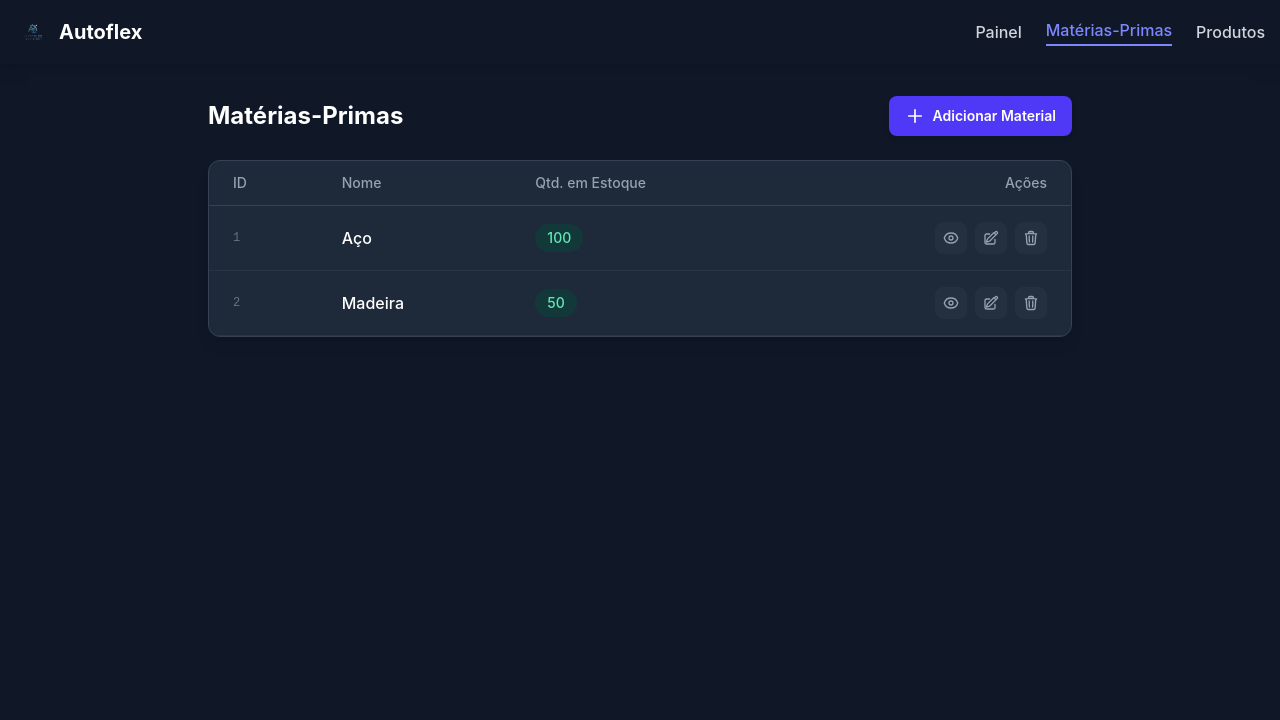
it: Inventory Management App E2E › should create a new raw material via modal
The image size is (1280, 720).
# Open modal
Click the button "Adicionar Material".
click(981, 116)  # box [889,96,1073,136]
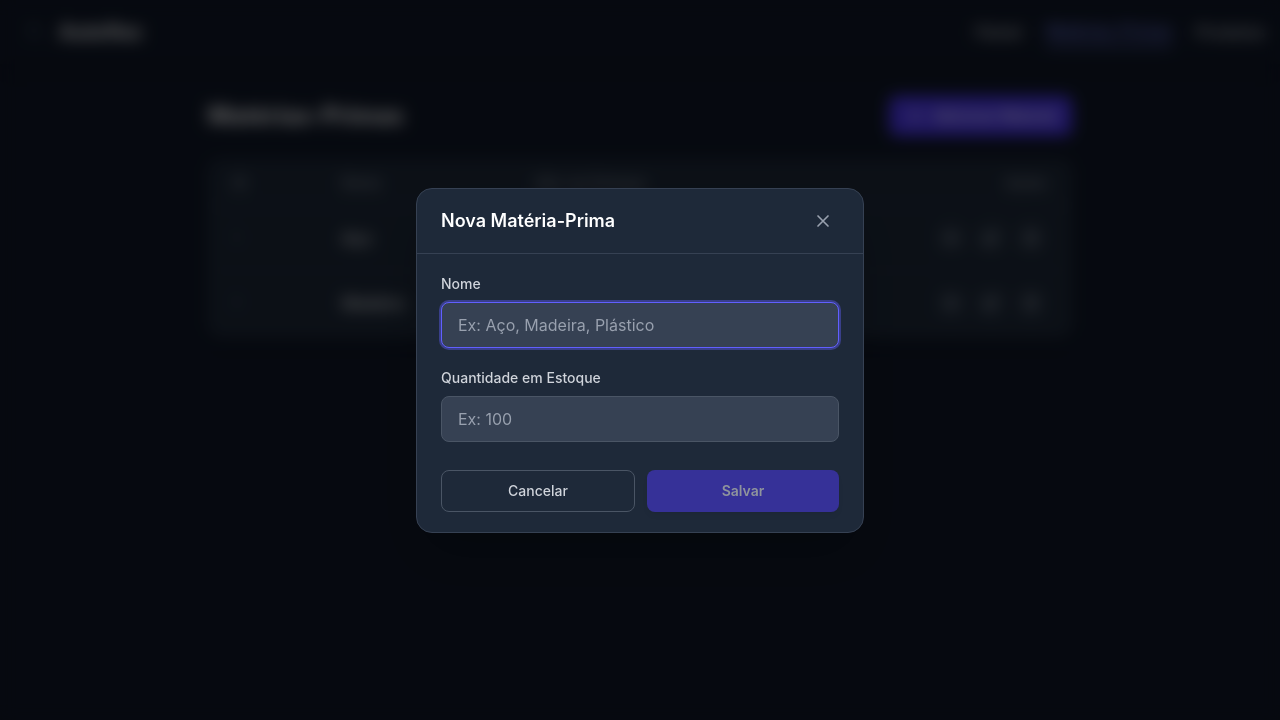
Expected: the heading "Nova Matéria-Prima" is shown, [441,206,615,234]
# Fill form
Type "Parafuso" into the field labelled "Nome".
click(640, 325); type("Parafuso")  # box [441,302,839,348]
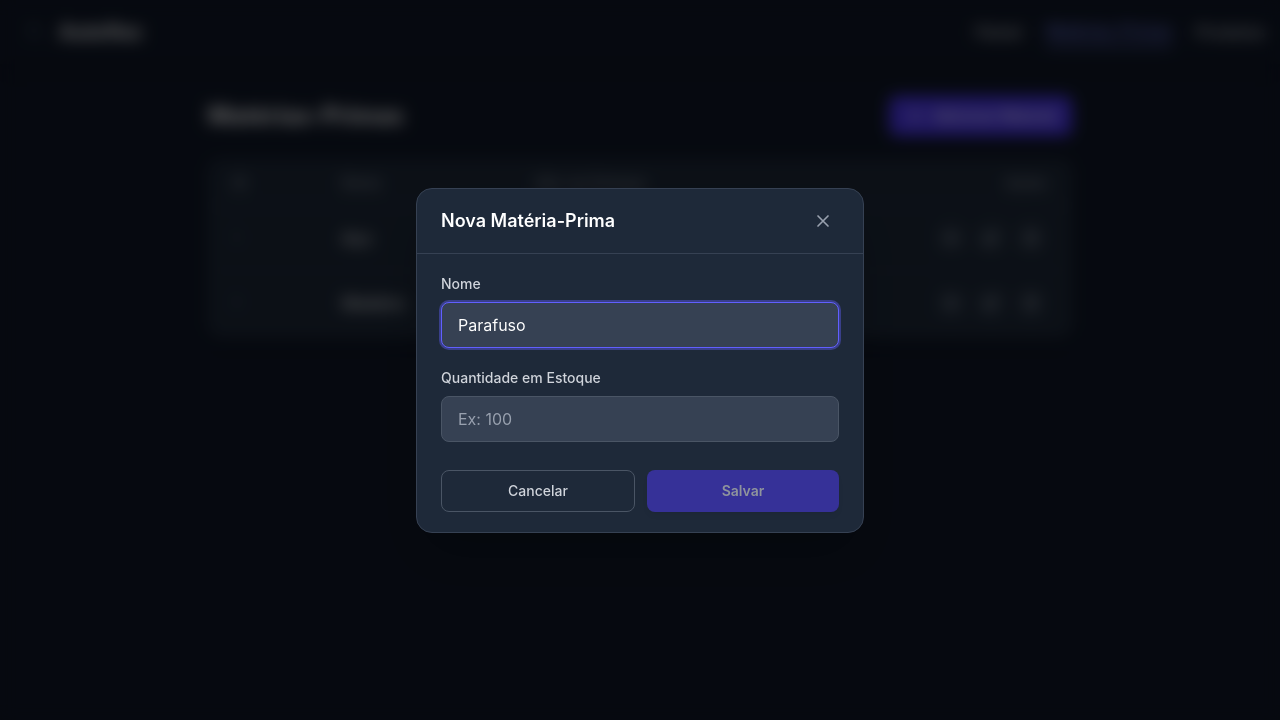
Type "500" into the number field with id "stock-quantity".
click(640, 419); type("500")  # box [441,396,839,442]
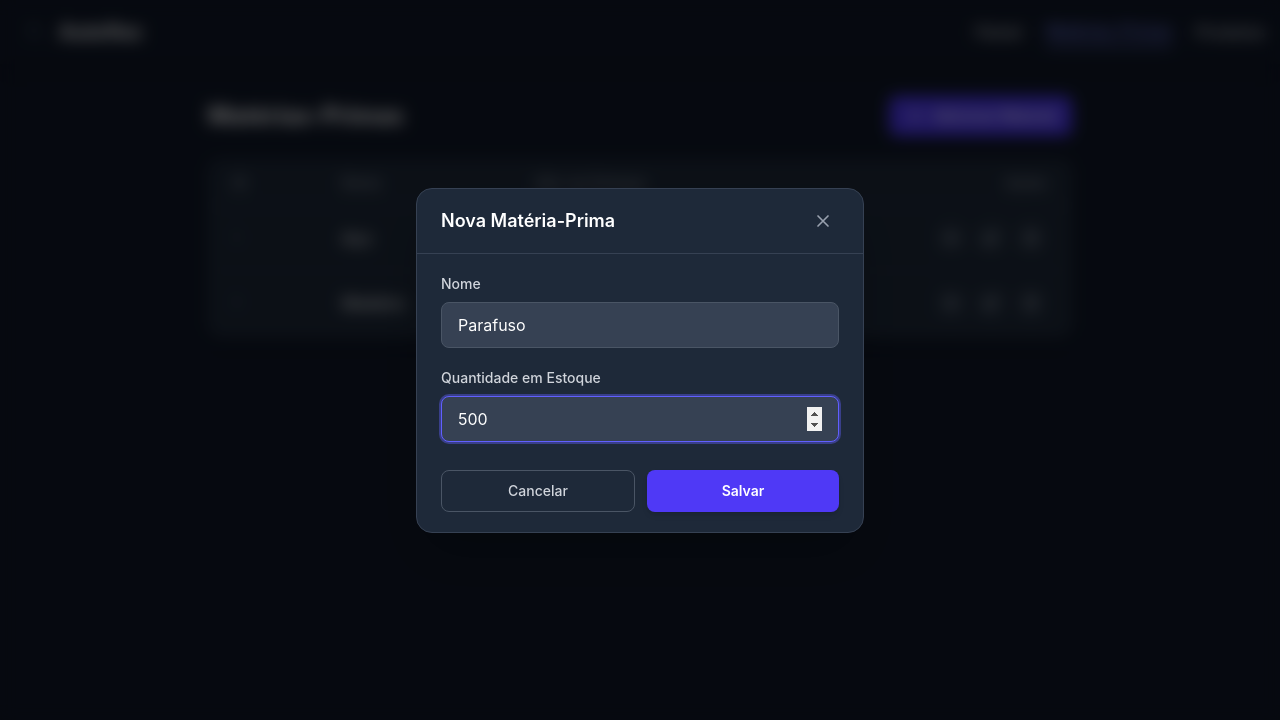
Click the button "Salvar".
click(743, 491)  # box [647,470,839,512]
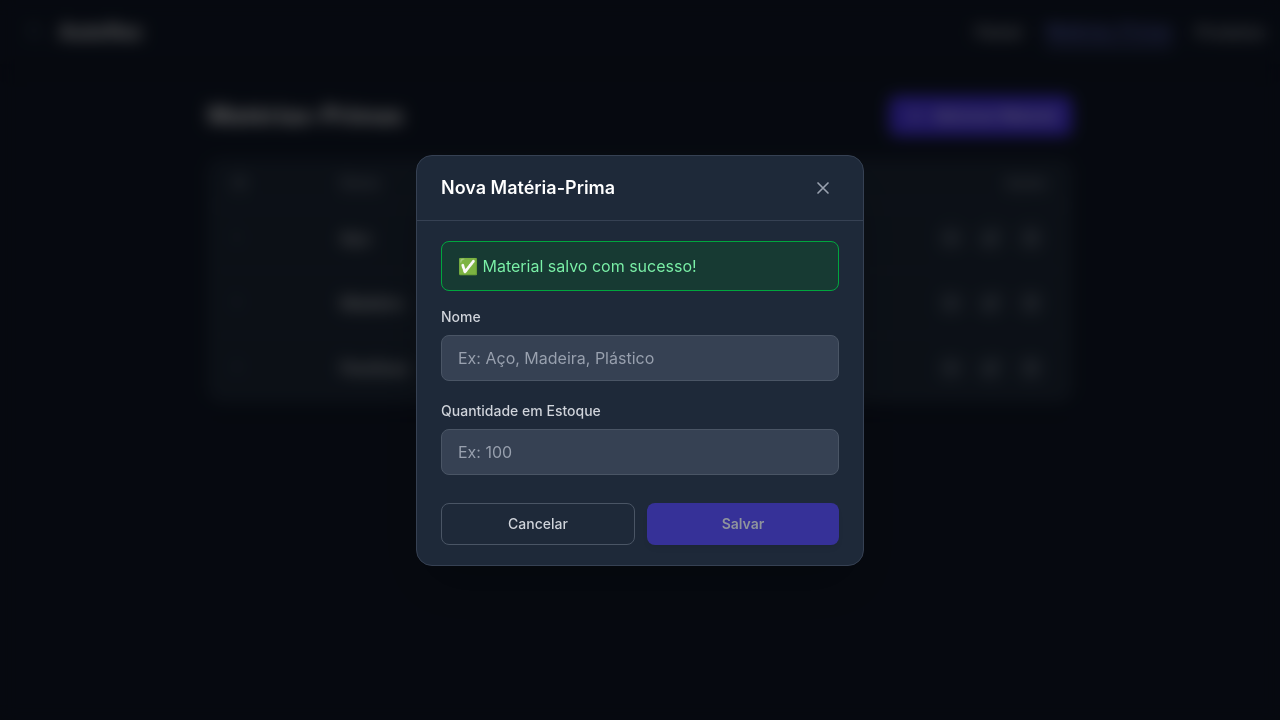
Expected: the text "Material salvo com sucesso" is shown, [458,256,697,276]
